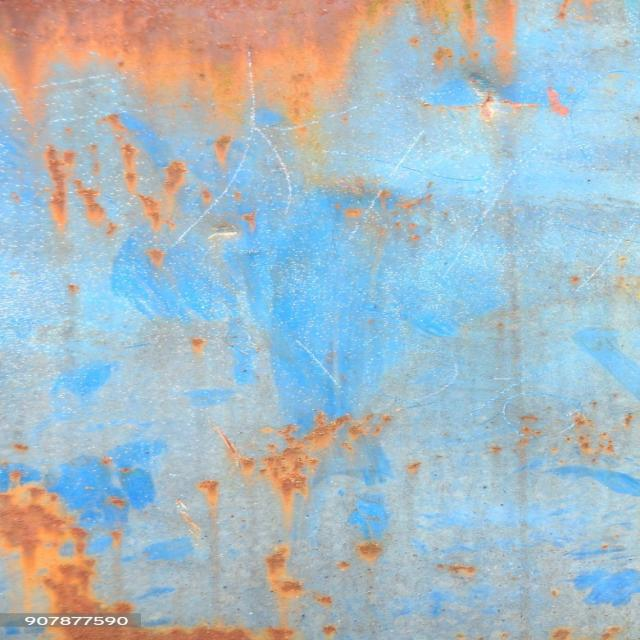Uniform Corrosion: (214, 412, 391, 524), (0, 480, 133, 614), (502, 393, 636, 480), (101, 115, 188, 233), (43, 145, 120, 236), (411, 0, 480, 70), (262, 544, 304, 640), (60, 626, 251, 640), (484, 0, 517, 76), (547, 88, 570, 115), (313, 593, 332, 607), (321, 624, 337, 640)
